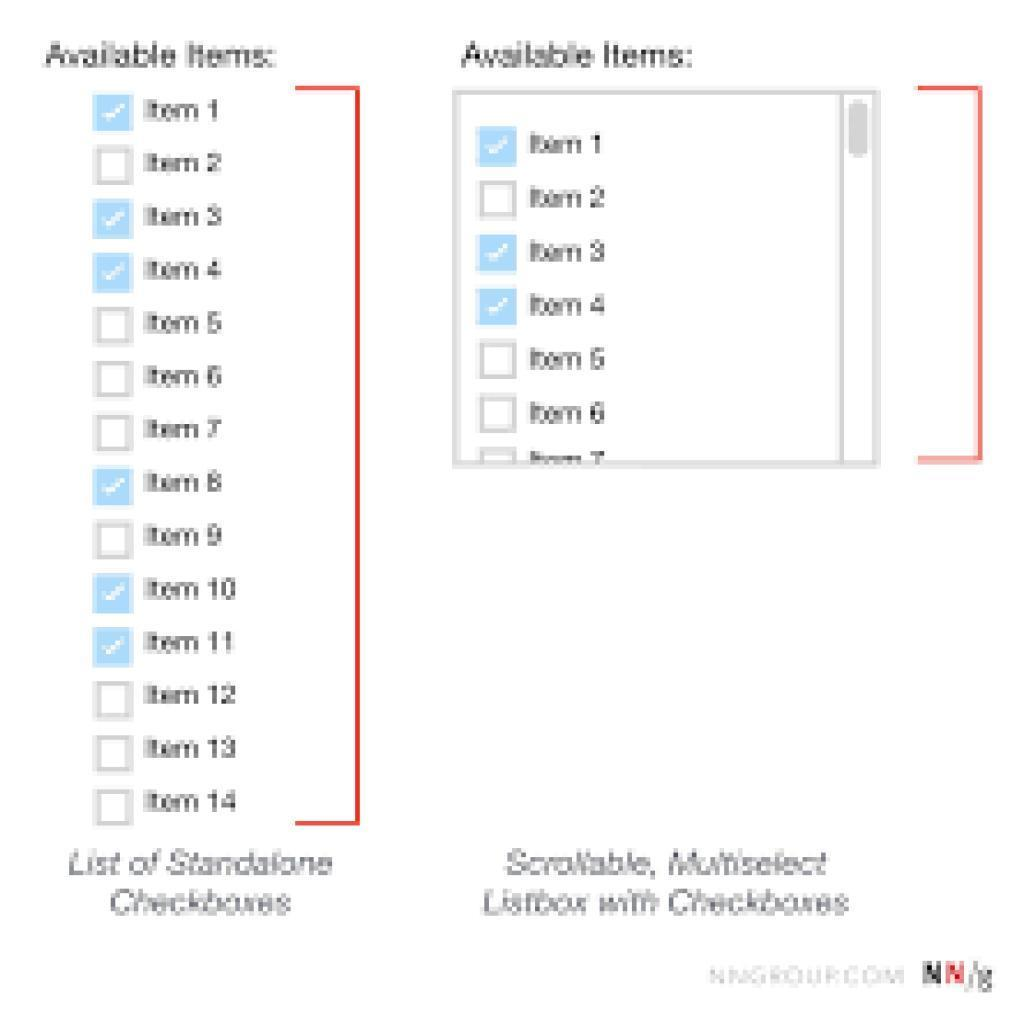checkbox: (92, 573, 136, 617), (92, 198, 135, 242), (92, 626, 136, 669), (93, 250, 134, 295), (93, 680, 135, 722), (94, 467, 135, 509), (94, 522, 136, 562), (92, 95, 135, 134), (96, 788, 137, 828), (479, 128, 519, 169), (94, 735, 135, 775), (97, 306, 136, 347), (479, 234, 518, 275), (94, 415, 135, 453), (95, 146, 133, 186), (480, 341, 518, 379), (479, 289, 517, 326), (480, 397, 517, 433), (481, 181, 517, 217), (97, 362, 131, 398)
label: (457, 36, 696, 74), (41, 39, 282, 75), (141, 573, 240, 606), (143, 787, 240, 820), (142, 628, 236, 661), (140, 410, 227, 445), (140, 732, 240, 762), (141, 680, 239, 709), (140, 359, 226, 392), (142, 252, 225, 286), (140, 146, 226, 178), (141, 200, 224, 232), (142, 466, 227, 497), (143, 519, 225, 551), (142, 93, 222, 125), (525, 127, 605, 159), (142, 308, 225, 338), (530, 343, 607, 375), (529, 399, 607, 430), (528, 290, 609, 318), (528, 183, 607, 211), (528, 239, 607, 264)
